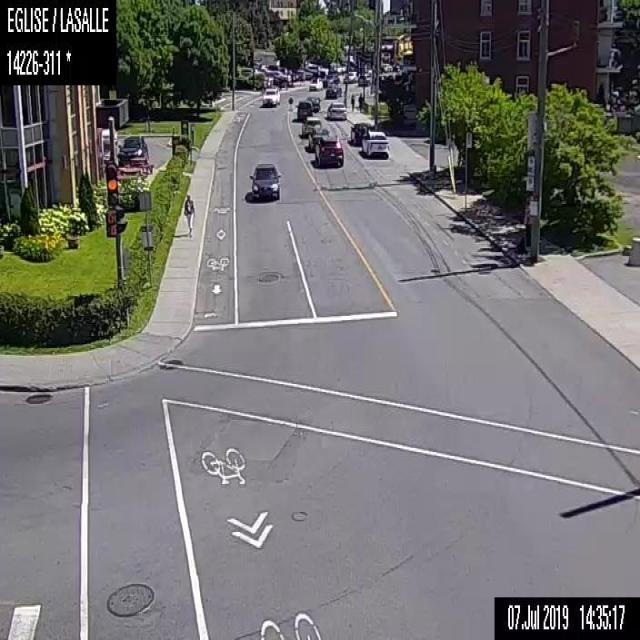pedestrian: (182, 192, 194, 235), (358, 90, 363, 114), (350, 91, 355, 113)
vehicle: (249, 161, 282, 199), (315, 135, 343, 166), (362, 131, 390, 160), (118, 135, 148, 162), (306, 124, 328, 151), (349, 120, 369, 146), (398, 103, 416, 127), (260, 85, 280, 106), (301, 115, 320, 136), (297, 98, 312, 122), (328, 100, 344, 119), (324, 82, 342, 98), (308, 73, 324, 89), (306, 96, 320, 111), (323, 73, 339, 85), (357, 74, 370, 86), (346, 70, 358, 82)
